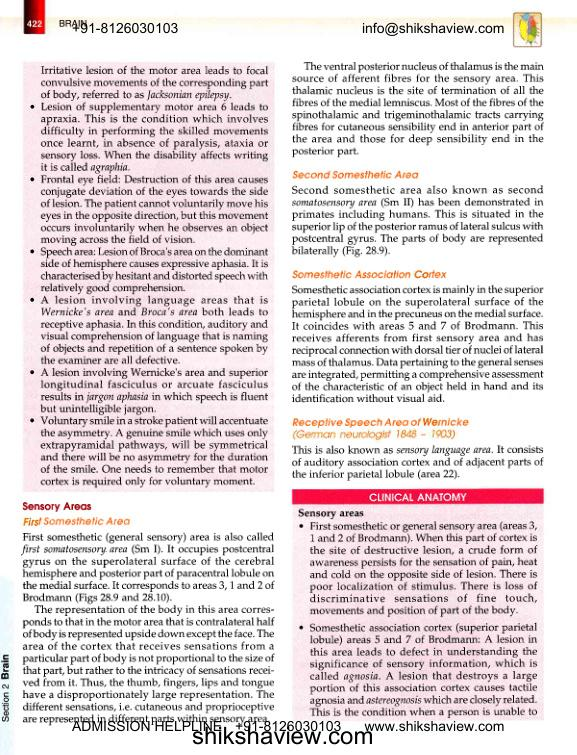caption: (368, 492, 468, 502)
list: (27, 63, 270, 492), (298, 520, 540, 719)
sub-section-heading: (292, 416, 470, 441), (291, 269, 448, 280), (291, 169, 420, 180), (21, 516, 132, 527), (297, 507, 365, 520), (21, 501, 92, 513)
text: (19, 531, 276, 723), (291, 283, 545, 404), (291, 60, 545, 158), (291, 184, 545, 259), (291, 444, 545, 481)
